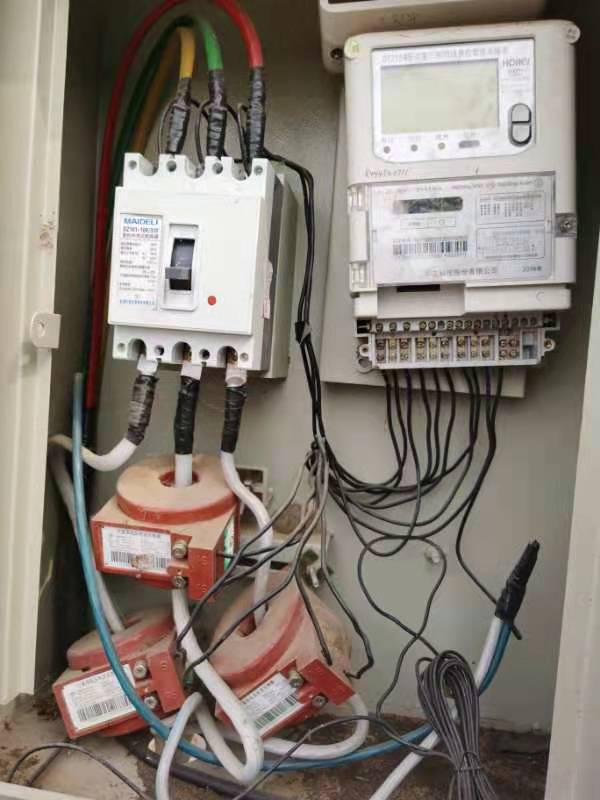digital: (339, 20, 580, 292)
